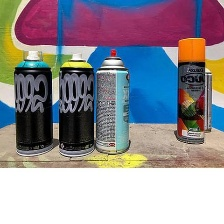aerosol_cans: (13, 47, 55, 160), (56, 51, 97, 159), (92, 45, 131, 155), (171, 35, 209, 145)
